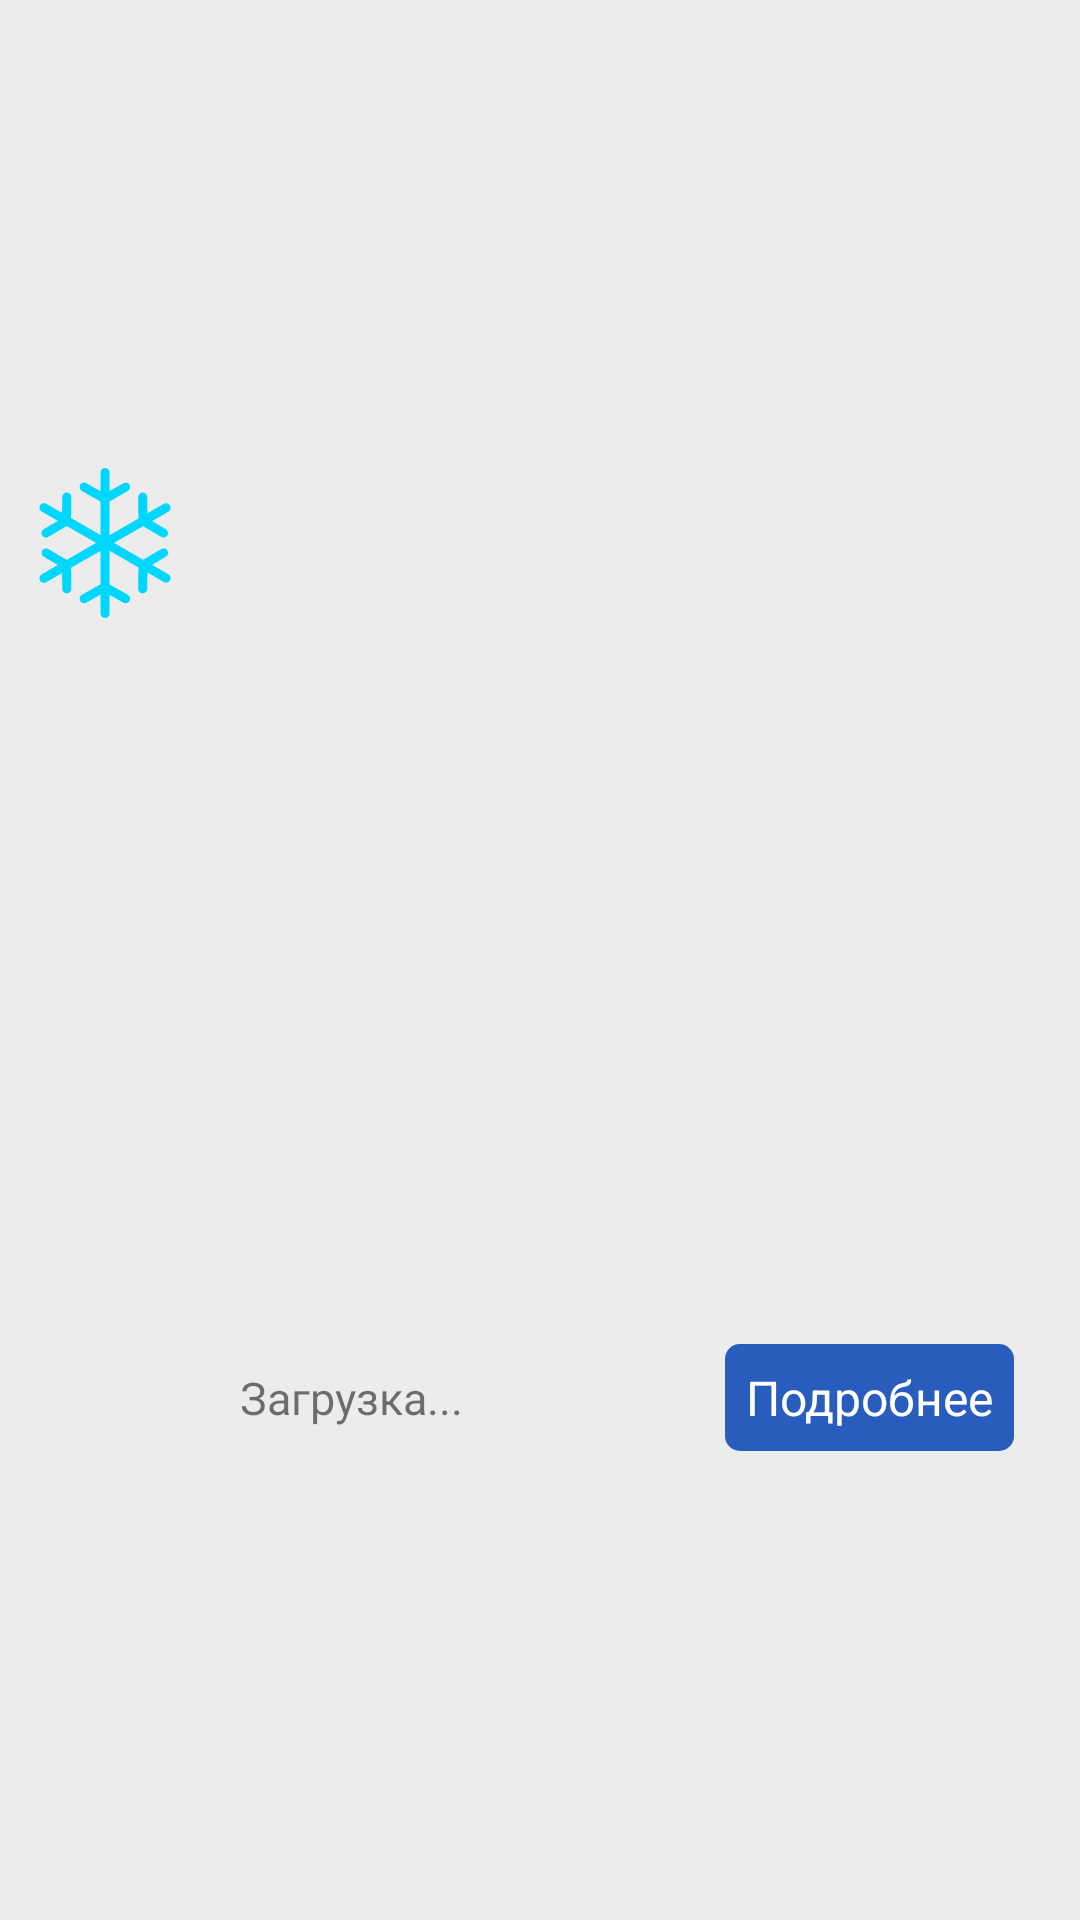

Icon bounding boxes for this 1080 x 1920 phone screenshot, format bbox=[x1, y1, x2, y2]:
snow: bbox=[39, 468, 171, 618]
